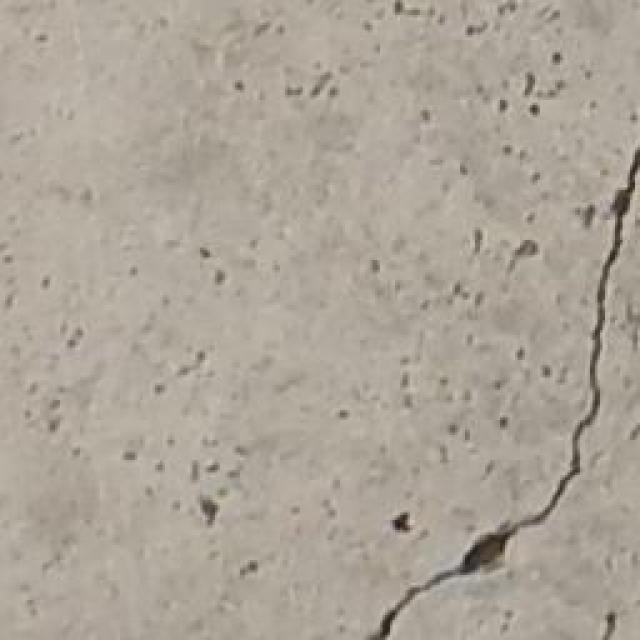concrete-crack: (372, 151, 640, 640)
